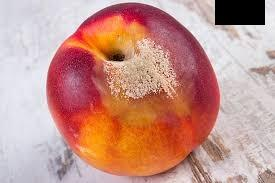rotten apple: (43, 3, 242, 178)
